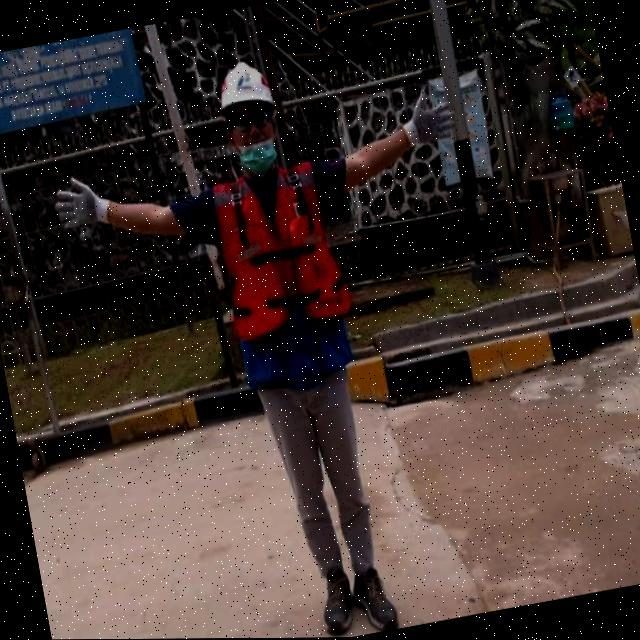goggles_on: (226, 105, 276, 136)
